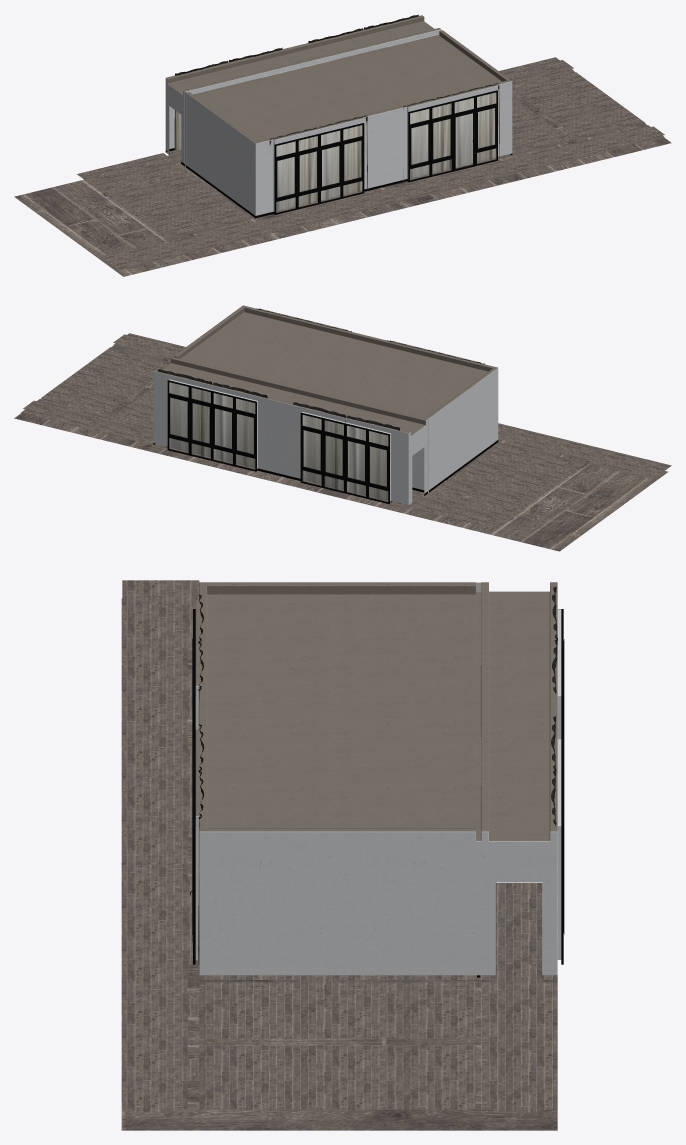
File: Room.fbx
The picture shows the model from 3 angles, top to bottom: view 1: azimuth 30°, elevation 25°; view 2: azimuth 150°, elevation 25°; view 3: azimuth 270°, elevation 25°; orthographic projection. The views are drawn at different scales.
Parts seen in each view (by area): view 1: Floor_Interior.003, Ceiling_Interior, Curtains_02, Glass.007, Frame_Door.001; view 2: Ceiling_Interior, Floor_Interior.003, Curtains_02, Glass.007, Frame_Door.001; view 3: Ceiling_Interior, Floor_Interior.003, Frame_Door.001, Curtains_02.
Part boxes in pixels (<box>): Floor_Interior.003: <box>14,57,671,276</box>; Ceiling_Interior: <box>165,15,512,218</box>; Curtains_02: <box>174,14,499,212</box>; Glass.007: <box>277,93,495,212</box>; Frame_Door.001: <box>274,90,497,214</box>; Ceiling_Interior: <box>153,305,498,504</box>; Floor_Interior.003: <box>14,333,671,551</box>; Curtains_02: <box>157,308,484,504</box>; Glass.007: <box>170,383,387,501</box>; Frame_Door.001: <box>167,380,389,504</box>; Ceiling_Interior: <box>195,582,561,975</box>; Floor_Interior.003: <box>121,580,557,1130</box>; Frame_Door.001: <box>190,609,564,964</box>; Curtains_02: <box>198,587,557,975</box>.
Bounding box in the file's own units: 2477 × 362 × 865.
